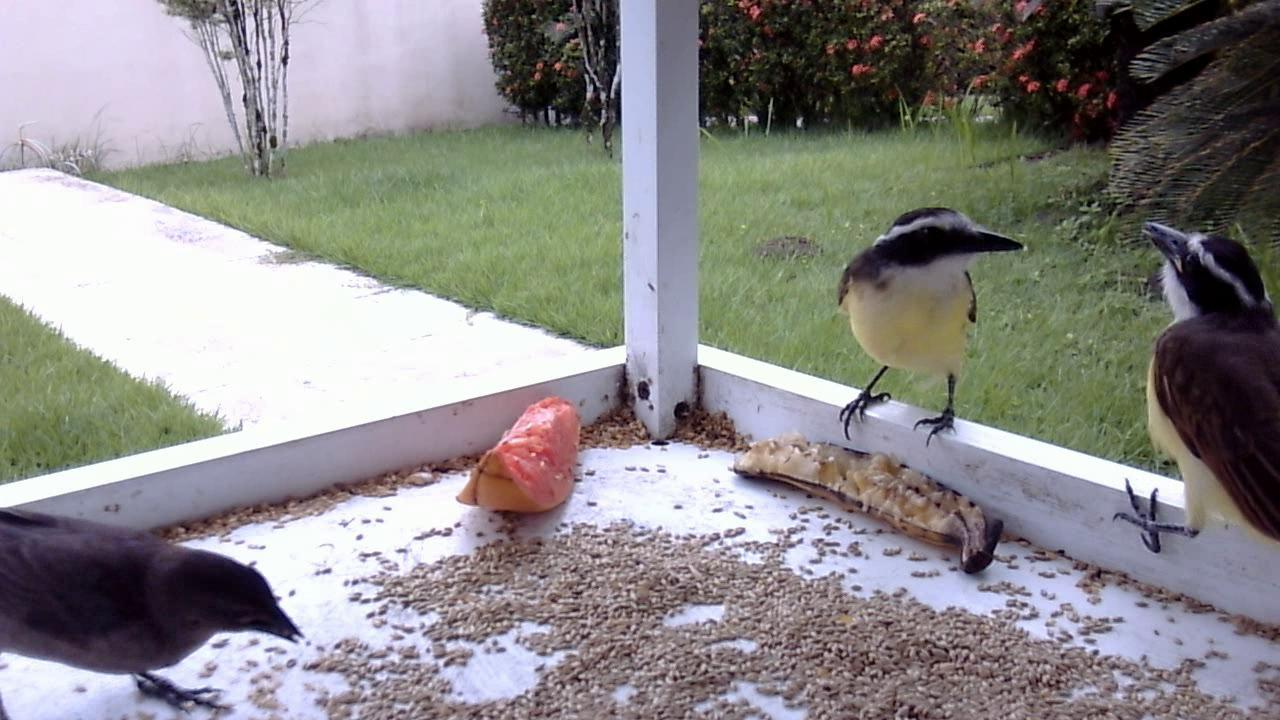bem_te_vi: (1100, 224, 1278, 574), (824, 200, 1032, 462)
chupim: (5, 482, 321, 720)
